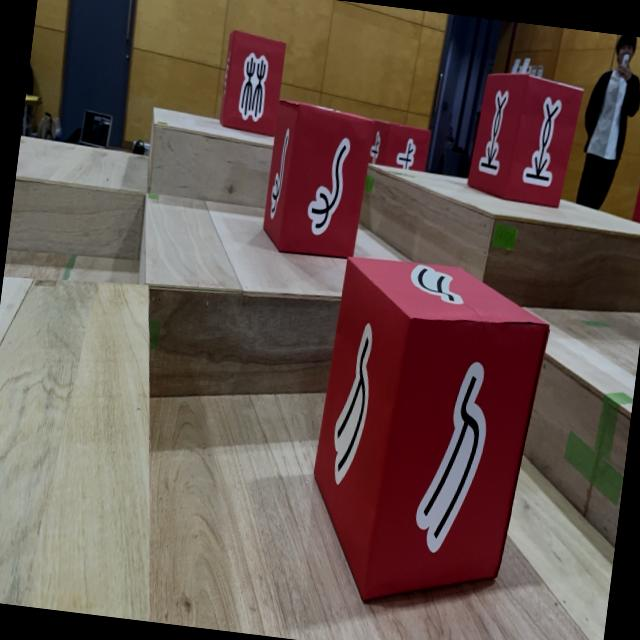10: (411, 356, 495, 560), (326, 317, 380, 490), (408, 261, 468, 307)
13: (305, 133, 352, 240), (268, 124, 290, 220)
2: (235, 50, 271, 124)
7: (520, 93, 562, 189), (477, 86, 510, 178)
fighter: (298, 251, 556, 620), (259, 97, 375, 261), (464, 66, 584, 210), (216, 28, 288, 138), (368, 118, 432, 172), (631, 172, 640, 228)
